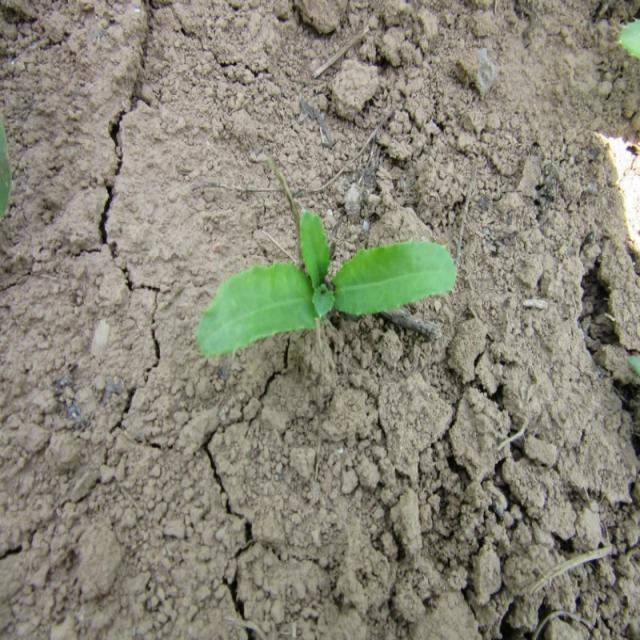field_thistle: (172, 204, 456, 376)
